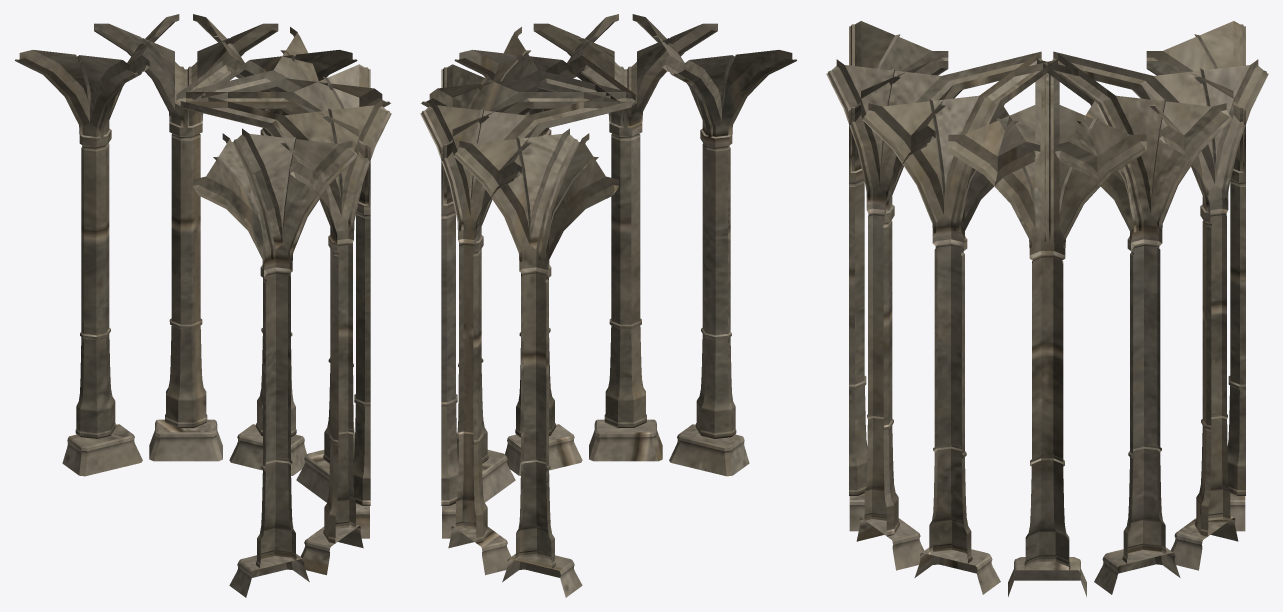
Rendered from SM_ThroneRoom_E.FBX.
The picture shows the model from 3 angles, left to right: view 1: azimuth 30°, elevation 25°; view 2: azimuth 150°, elevation 25°; view 3: azimuth 270°, elevation 25°; orthographic projection. The views are drawn at different scales.
Parts seen in each view (by area): view 1: SM_ThroneRoom_E; view 2: SM_ThroneRoom_E; view 3: SM_ThroneRoom_E.
Boxes of the visible parts, <box> form: SM_ThroneRoom_E: <box>15,14,391,597</box>; SM_ThroneRoom_E: <box>420,14,796,597</box>; SM_ThroneRoom_E: <box>826,21,1268,596</box>.
Size of what is drawn, in the model's own units: 1348 by 1861 by 2126.
